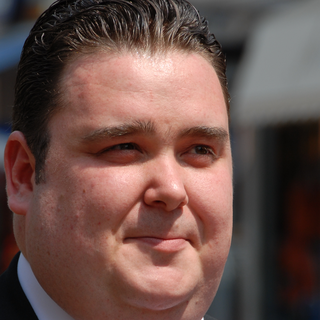eye: (94, 136, 149, 161), (177, 139, 221, 164)
